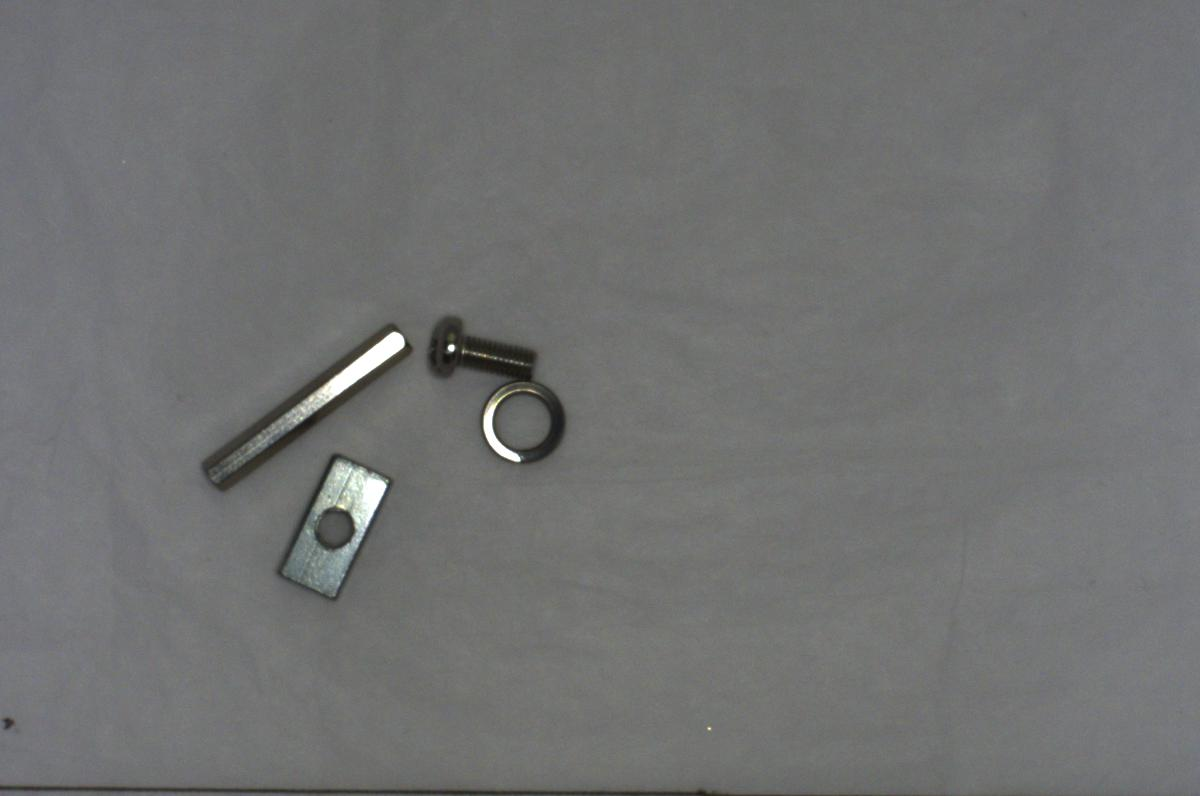Double hexagonal column: (194, 308, 420, 489)
Rectangular nut: (274, 448, 394, 602)
Round head screw: (418, 307, 544, 381)
Spring washer: (472, 374, 572, 472)
